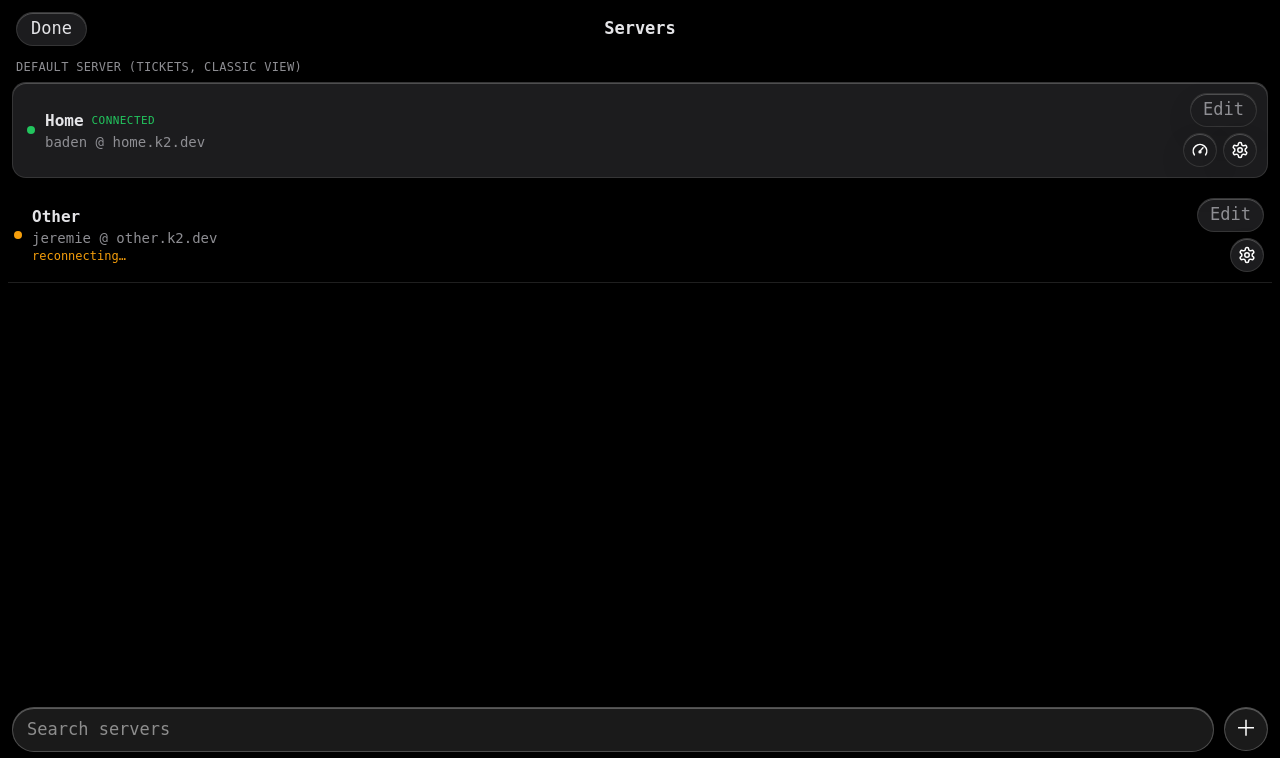
it: Servers sheet gear → Server settings › renames the server in place
Click the 1st button with test id "server-settings": (1240, 150) left=1223, top=133, right=1257, bottom=167
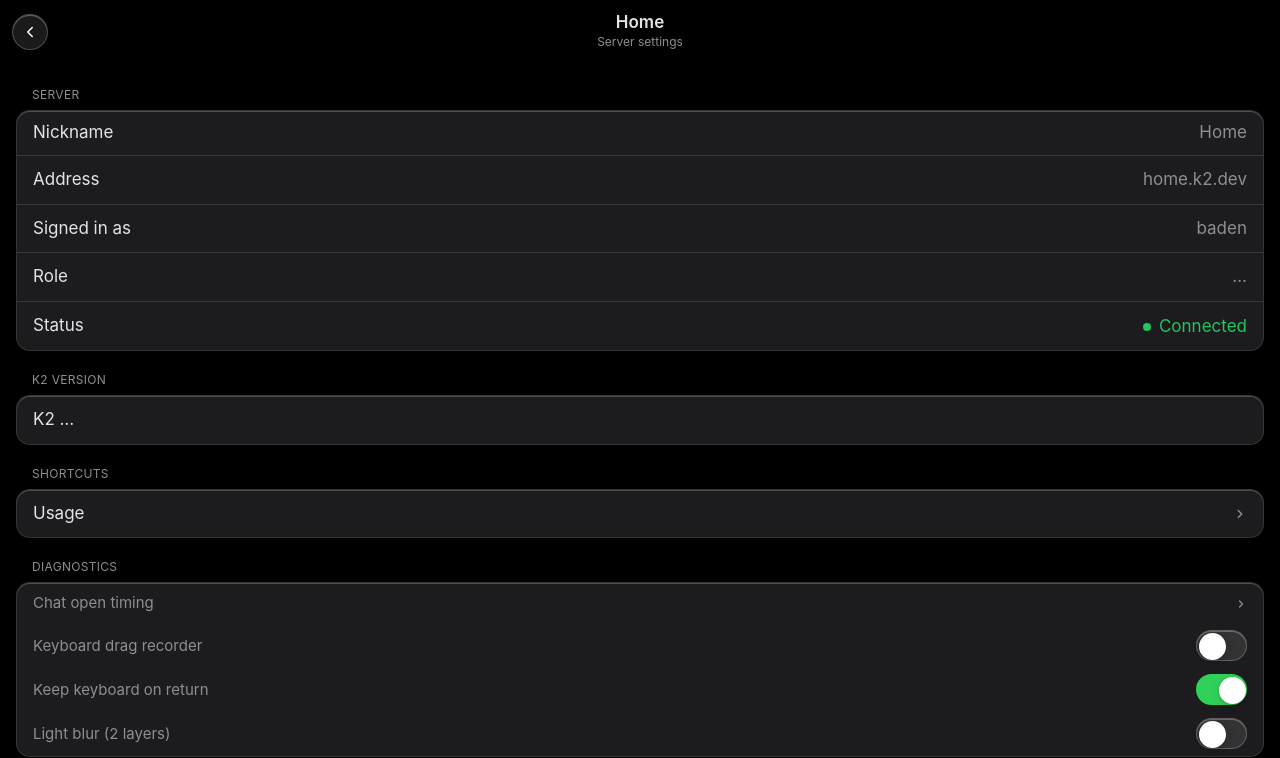
Replace the text in the field with test id "server-settings-nickname" with "  Studio  ": (688, 133) left=129, top=120, right=1247, bottom=146
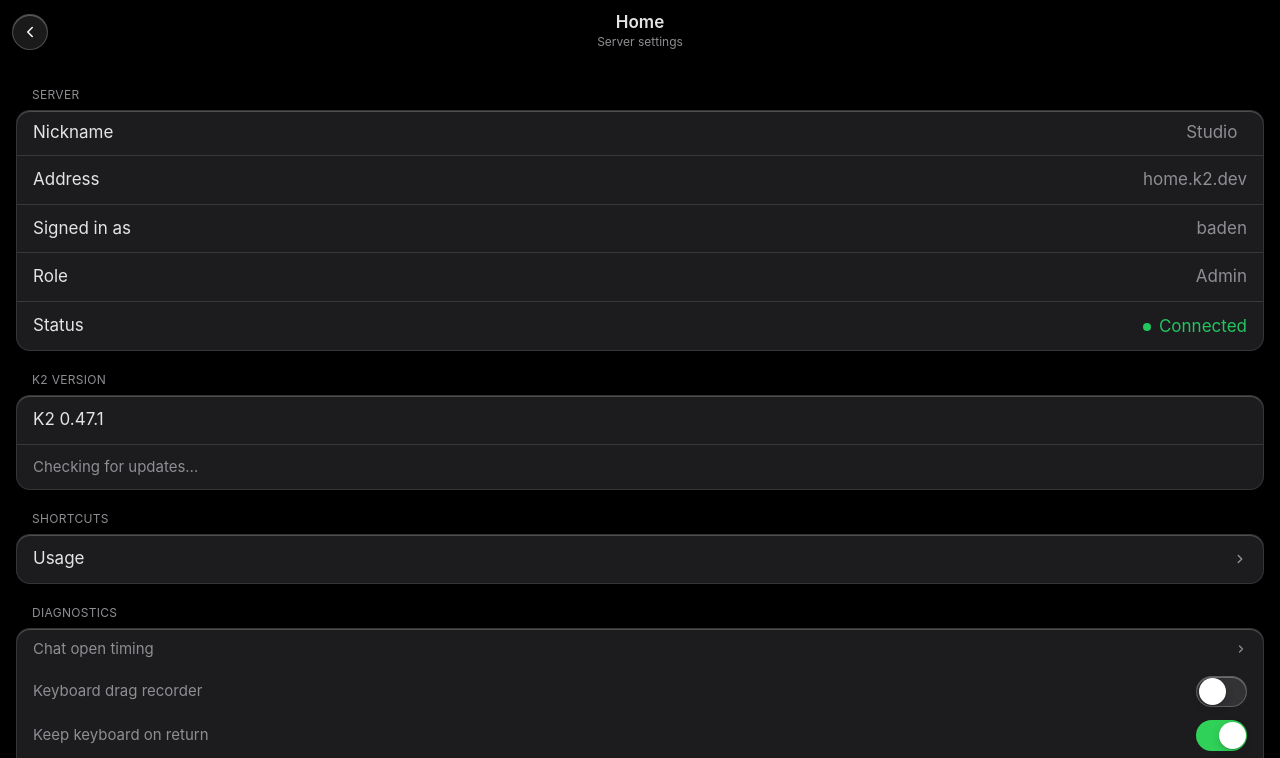
Leave the field with test id "server-settings-nickname", box left=129, top=120, right=1247, bottom=146
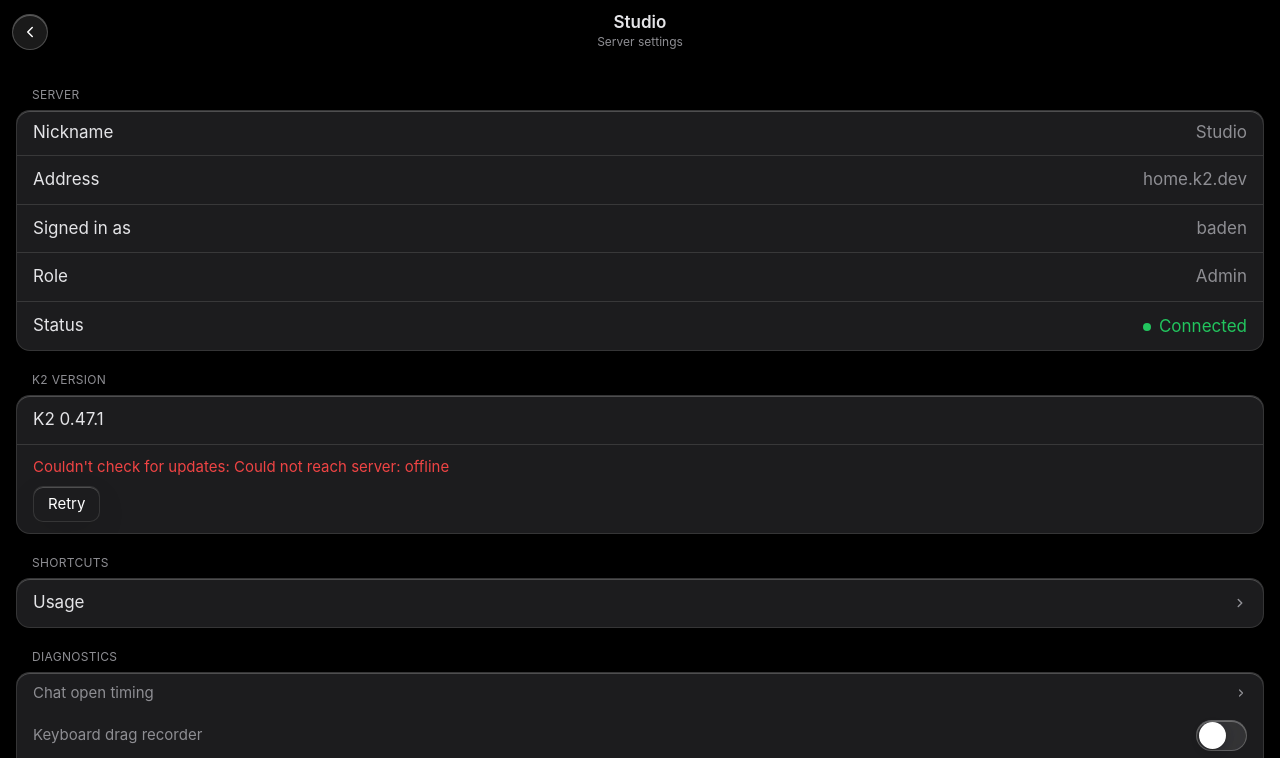
Check: the text "Studio" is shown, box left=45, top=109, right=103, bottom=133
Check: the heading with test id "server-settings-title" reads "Studio", box left=614, top=12, right=666, bottom=32
